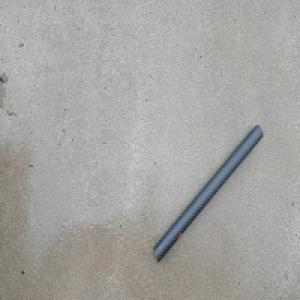LuggagePart: (152, 124, 263, 266)
